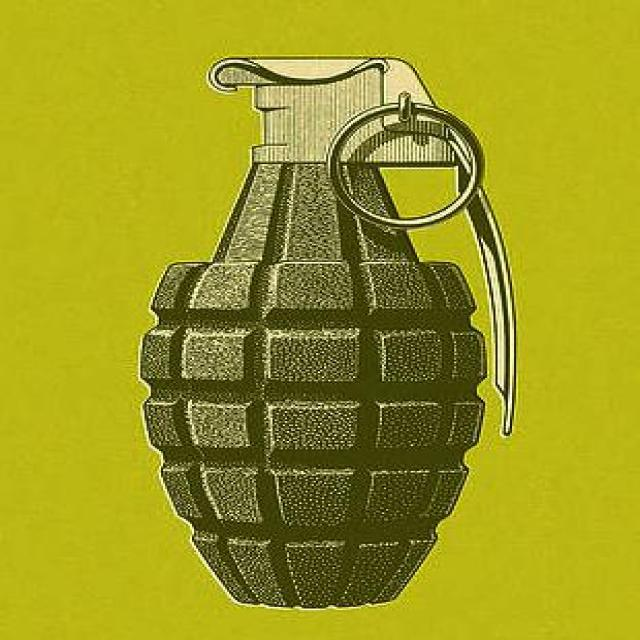grenade: (139, 58, 515, 610)
